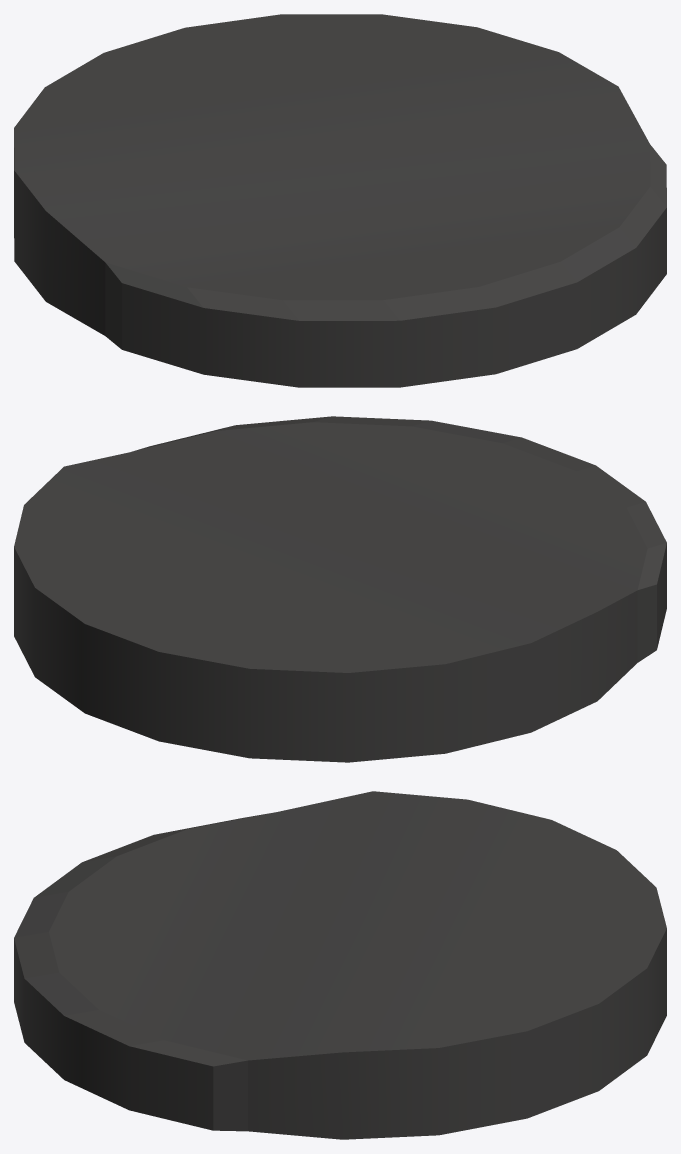
File: cleaning_bot.fbx
The picture shows the model from 3 angles, top to bottom: view 1: azimuth 30°, elevation 25°; view 2: azimuth 150°, elevation 25°; view 3: azimuth 270°, elevation 25°; orthographic projection. The views are drawn at different scales.
Parts seen in each view (by area): view 1: clean_robot; view 2: clean_robot; view 3: clean_robot.
Boxes of the visible parts, x1,y1,x2,y2 form: clean_robot: [14, 14, 666, 387]; clean_robot: [14, 416, 666, 762]; clean_robot: [14, 791, 666, 1139].
Bounding box in the file's own units: 47.86 × 7.46 × 50.56.
